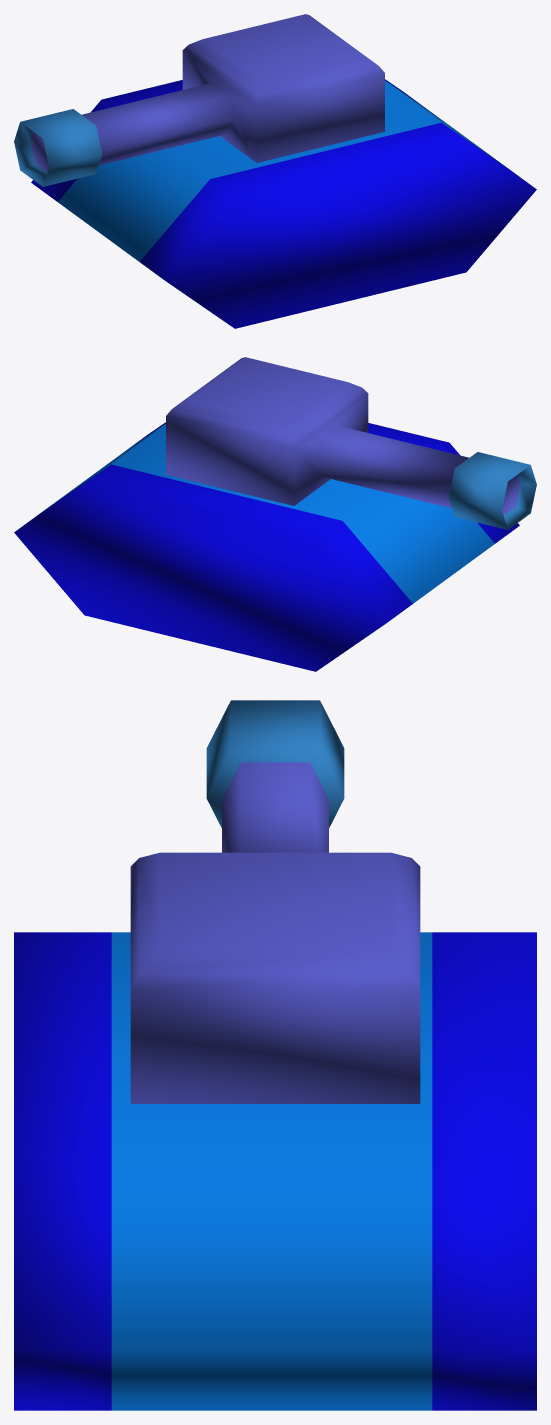
Rendered from Tank.fbx.
3 views of the same model, one above another, from view 1: azimuth 30°, elevation 25°; view 2: azimuth 150°, elevation 25°; view 3: azimuth 270°, elevation 25° (orthographic). The views are drawn at different scales.
Parts seen in each view (by area): view 1: Cube, Cube.001; view 2: Cube, Cube.001; view 3: Cube, Cube.001.
Boxes of the visible parts, left/top/right/bottom form: Cube: left=31, top=79, right=536, bottom=328; Cube.001: left=14, top=14, right=384, bottom=186; Cube: left=14, top=422, right=519, bottom=671; Cube.001: left=166, top=357, right=536, bottom=529; Cube: left=14, top=932, right=536, bottom=1410; Cube.001: left=130, top=700, right=420, bottom=1103.
Size of the model in its own units: 616 by 273 by 325.
